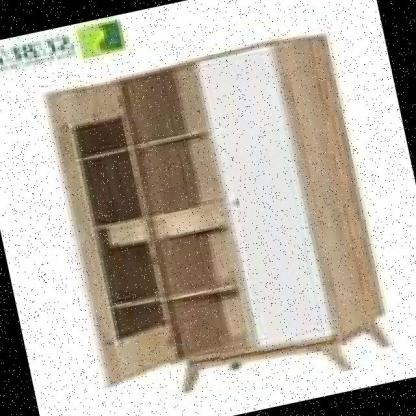Closet: (33, 24, 400, 416)
